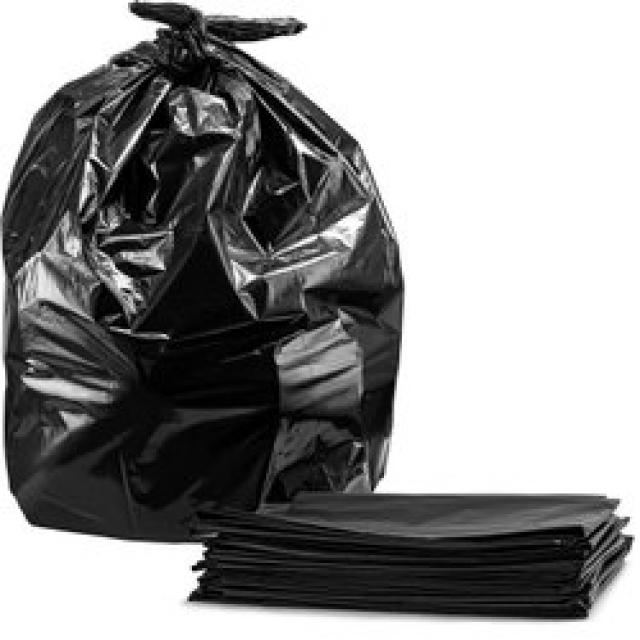plastic_bag: (4, 14, 418, 515)
